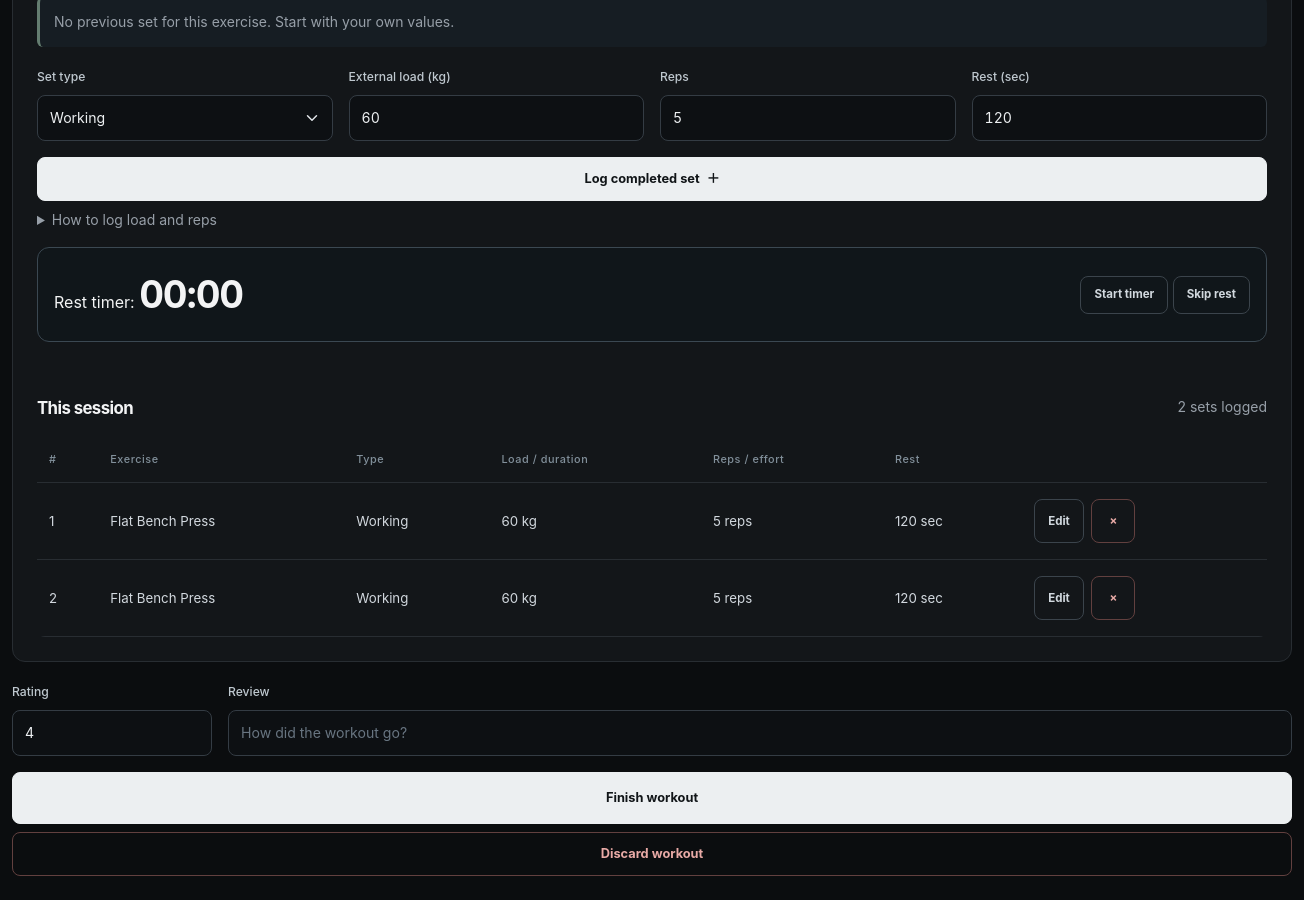
Test case: workout logger › continues a workout started on another device and removes it there when discarded
This screenshot has width=1304, height=900.
(page scrolled)
Click the button "Discard workout" at (652, 854), box [12, 832, 1292, 876]
(page scrolled)
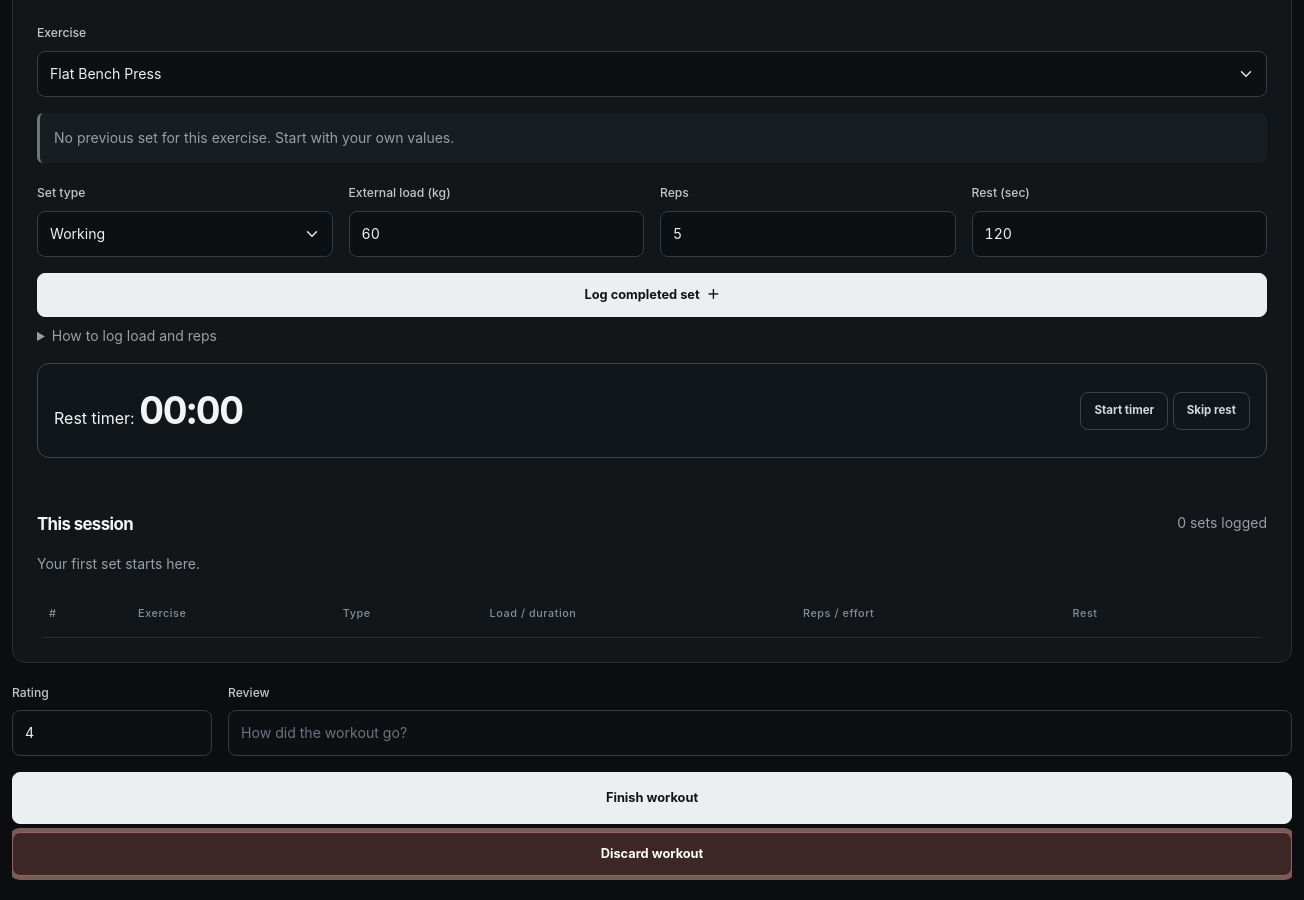
Check: the text "0 sets logged" is shown, box [1177, 512, 1267, 535]
